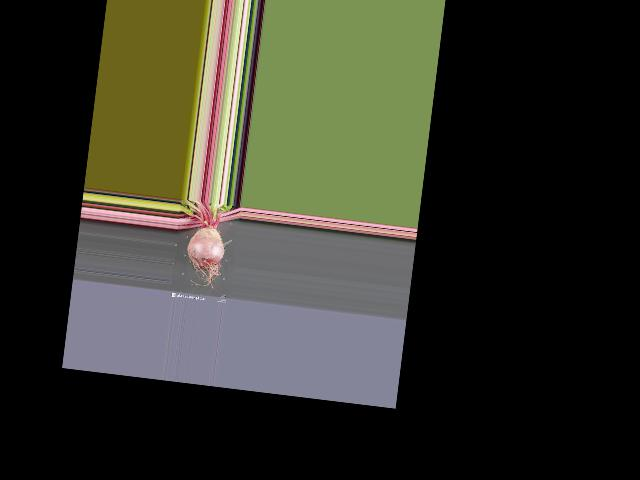beet: (170, 199, 230, 292)
